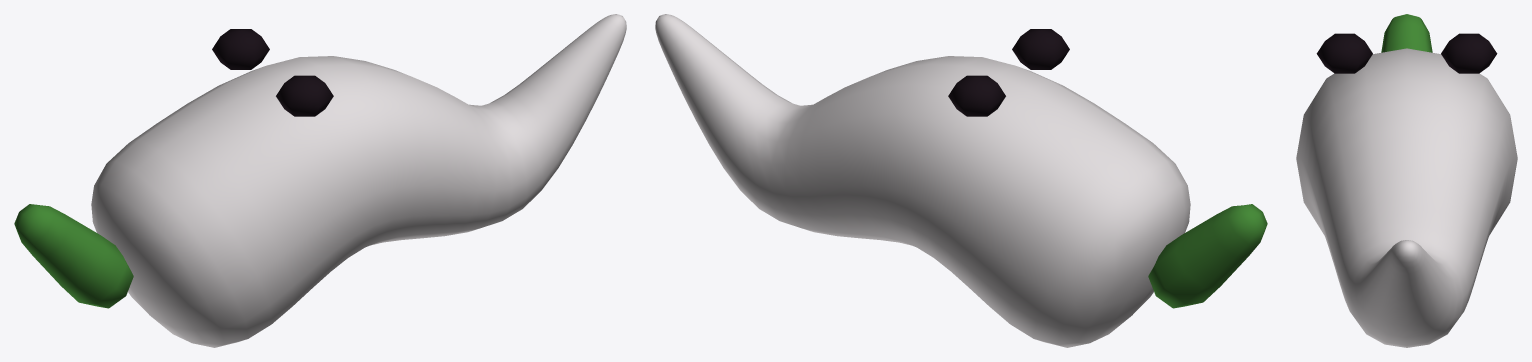
Rendered from one_pepper.glb.
The picture shows the model from 3 angles, left to right: view 1: azimuth 30°, elevation 25°; view 2: azimuth 150°, elevation 25°; view 3: azimuth 270°, elevation 25°; orthographic projection. The views are drawn at different scales.
Parts seen in each view (by area): view 1: one_pepper; view 2: one_pepper; view 3: one_pepper.
Boxes of the visible parts, x1,y1,x2,y2 form: one_pepper: (14,14,626,347); one_pepper: (655,14,1267,347); one_pepper: (1296,14,1517,347).
Bounding box in the file's own units: 0.2417 × 0.101 × 0.0785.
